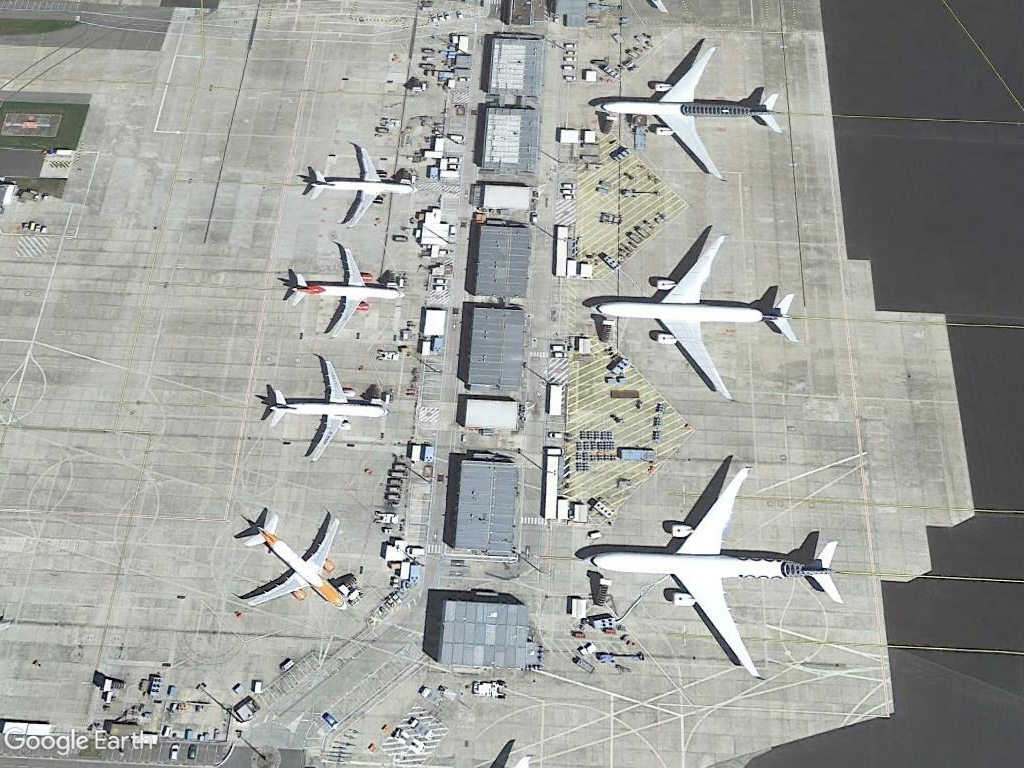airliner: (580, 459, 848, 685), (584, 227, 805, 407), (263, 355, 392, 465), (284, 242, 408, 338), (244, 509, 351, 617), (305, 141, 422, 228)
pushbacktruck: (468, 678, 511, 701)
stairtruck: (92, 673, 131, 692)
